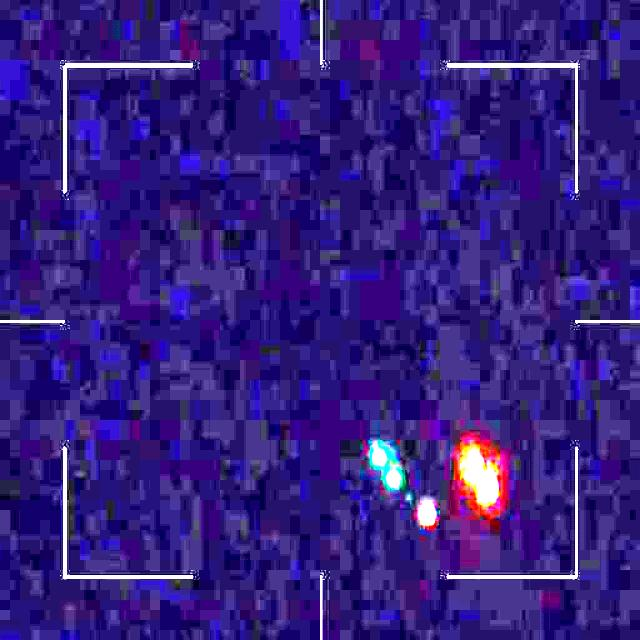bird: (371, 439, 500, 529)
